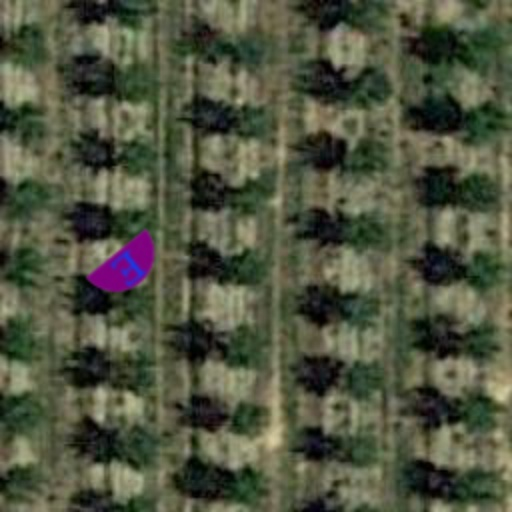semicircle: (72, 212, 184, 324)
